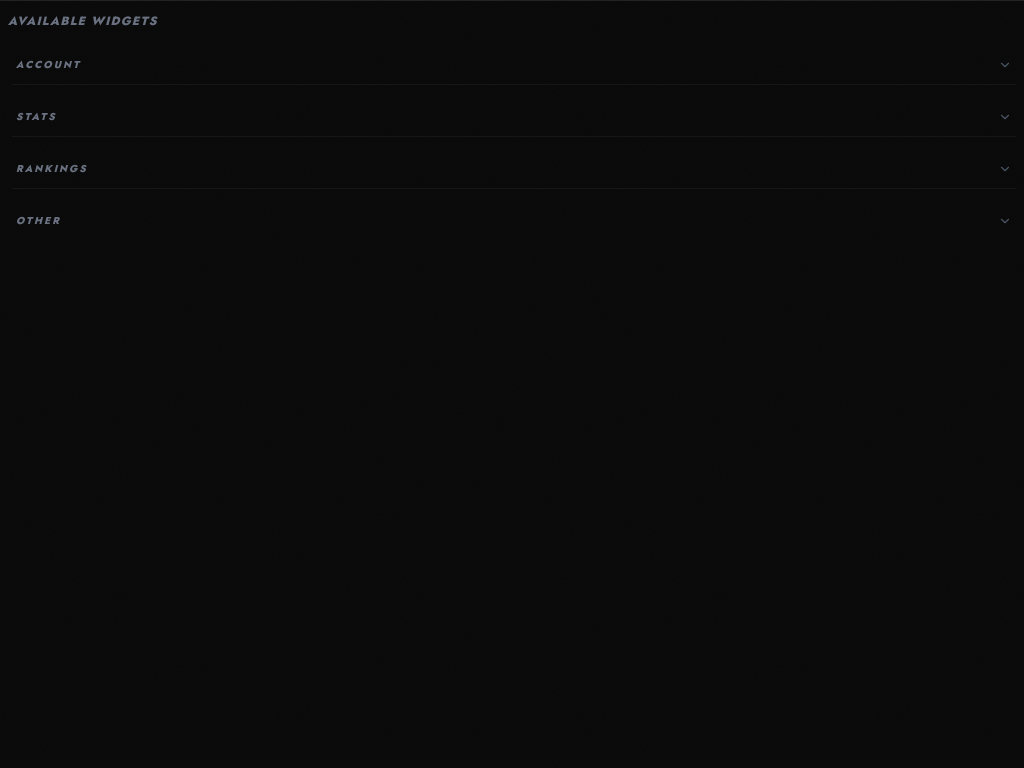
Test case: WidgetsView – anglais › affiche sections, cartes et sous-titres en anglais avec la locale en-US
The width and height of the screenshot is (1024, 768).
Check: the text "Available widgets" is shown, box [8,12,158,30]
Click the button "Account": [48, 64] box [12,45,1016,84]
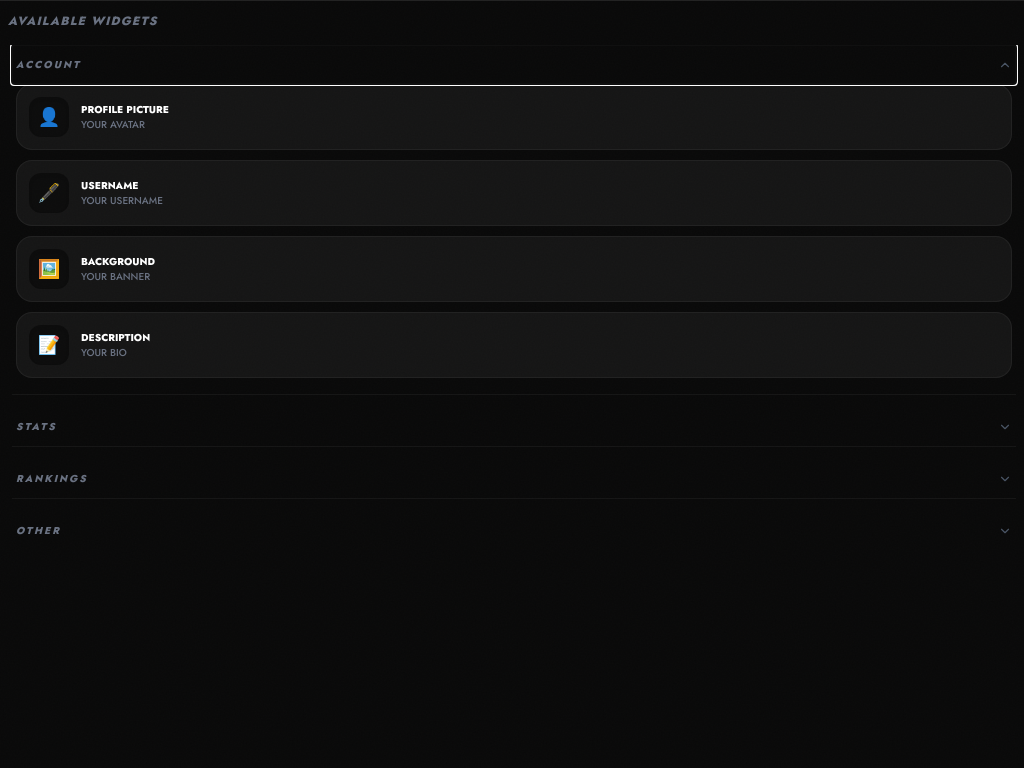
Click the button "Stats": [36, 426] box [12,407,1016,446]
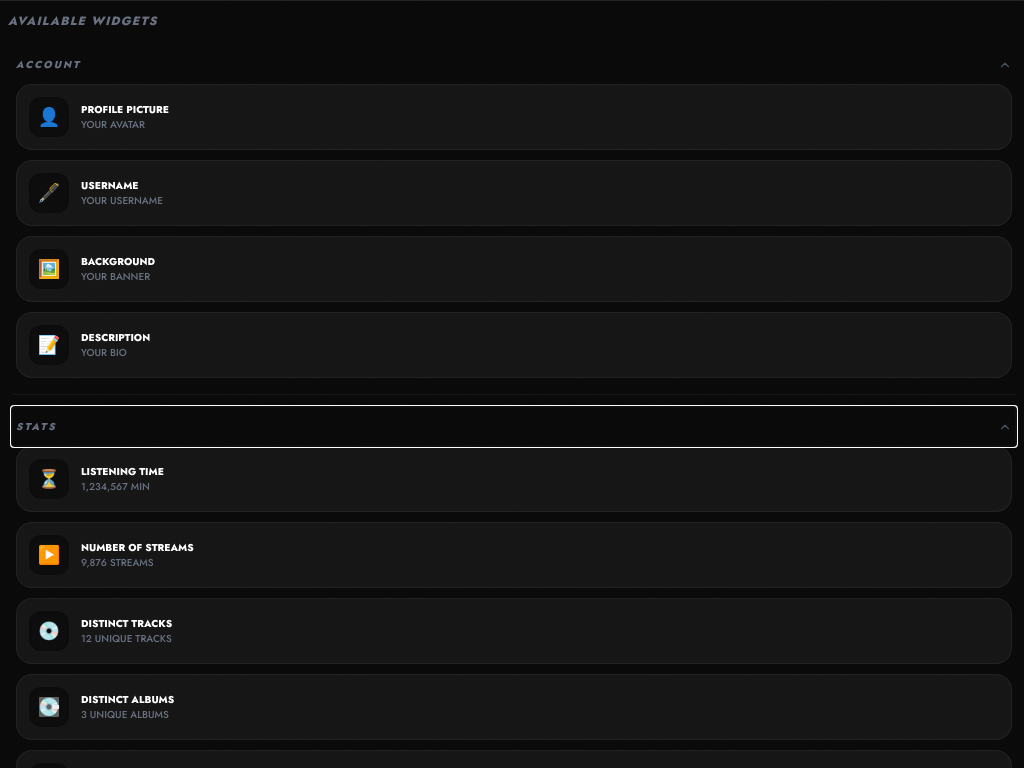
Check: the text "Profile picture" is shown, box [81,102,169,117]
Check: the text "Your avatar" is shown, box [81,117,145,132]
Check: the text "1,234,567 min" is shown, box [81,479,150,494]
